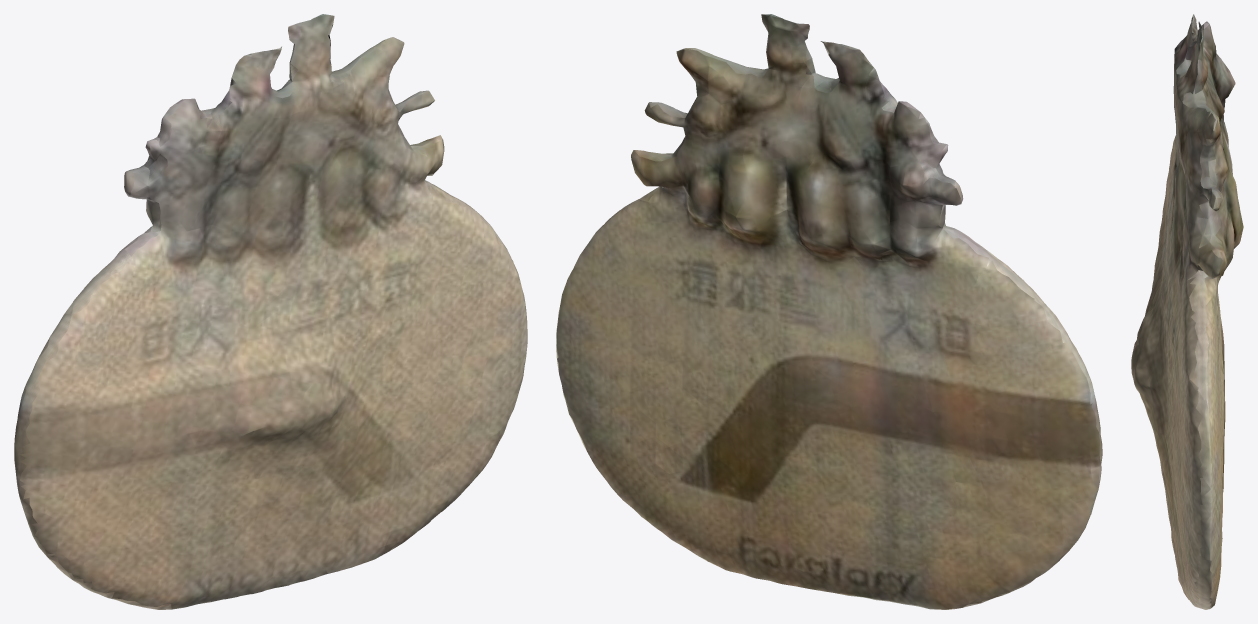
The model's file is 裝置藝術-1.glb.
3 renders of one model, left to right at view 1: azimuth 30°, elevation 25°; view 2: azimuth 150°, elevation 25°; view 3: azimuth 270°, elevation 25°, orthographic. The views are drawn at different scales.
Visible parts, largest first — view 1: world; view 2: world; view 3: world.
Boxes of the visible parts, bbox=[...] form: world: bbox=[14, 14, 527, 609]; world: bbox=[556, 14, 1102, 609]; world: bbox=[1131, 14, 1243, 609].
Size of the model in its own units: 0.8899 by 0.9056 by 0.1681.
Materials: 1 (1 with a texture image).
